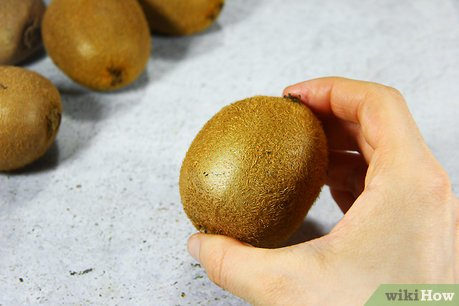kiwi: (180, 58, 345, 283)
